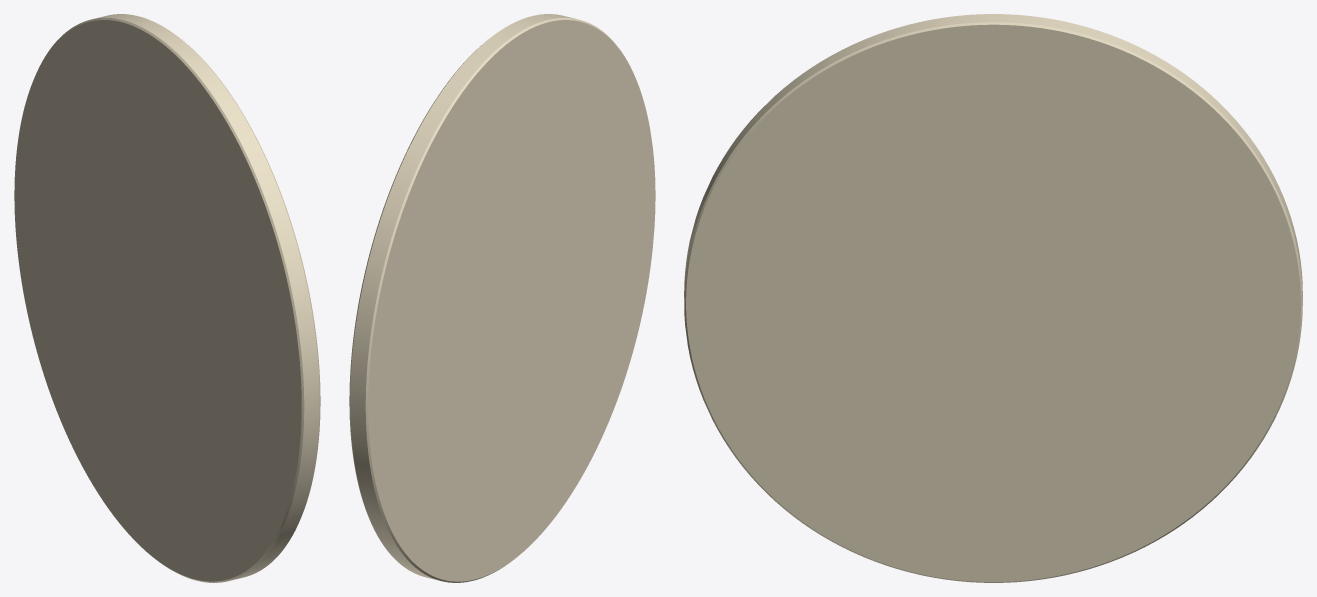
The model's file is takoz-mtb-210-top-buffer-plate-new-type-02.glb.
3 renders of one model, left to right at view 1: azimuth 30°, elevation 25°; view 2: azimuth 150°, elevation 25°; view 3: azimuth 270°, elevation 25°, orthographic. The views are drawn at different scales.
Visible parts, largest first — view 1: body; view 2: body; view 3: body.
Part boxes in pixels (left/top/right/bottom): body: left=14, top=14, right=320, bottom=582; body: left=349, top=14, right=655, bottom=582; body: left=684, top=14, right=1302, bottom=582.
Bounding box in the file's own units: 0.012 × 0.32 × 0.32.
